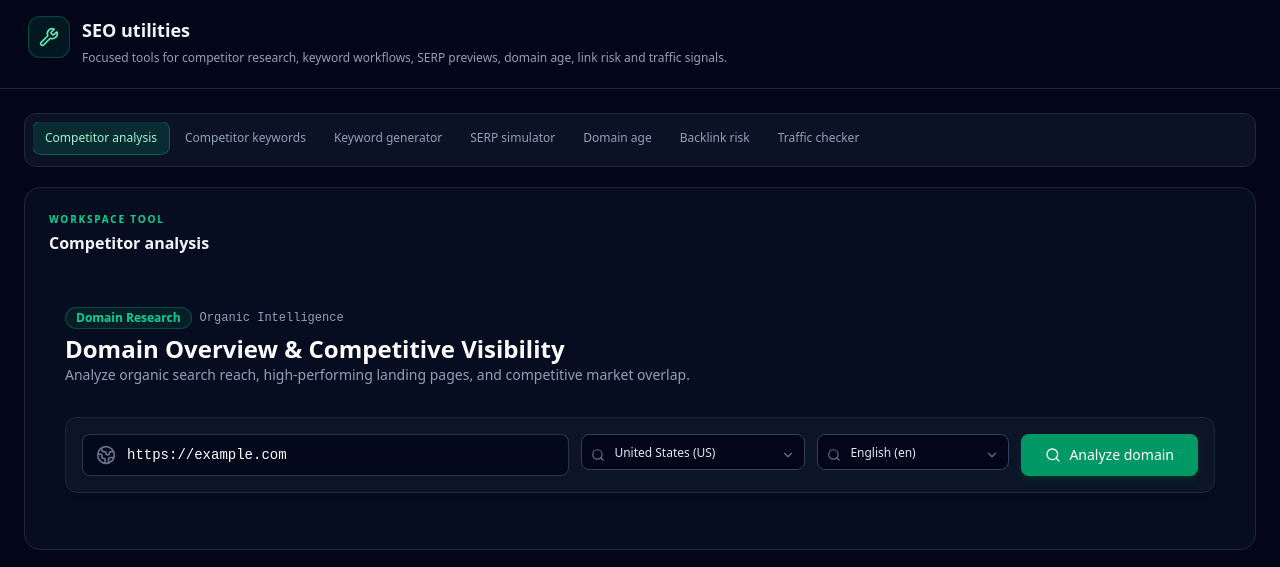
it: SEO utilities workspace route › surfaces a timed-out registry request as a controlled error
Click the tab "Domain age". click: click(617, 138)
box: [571,122,664,154]
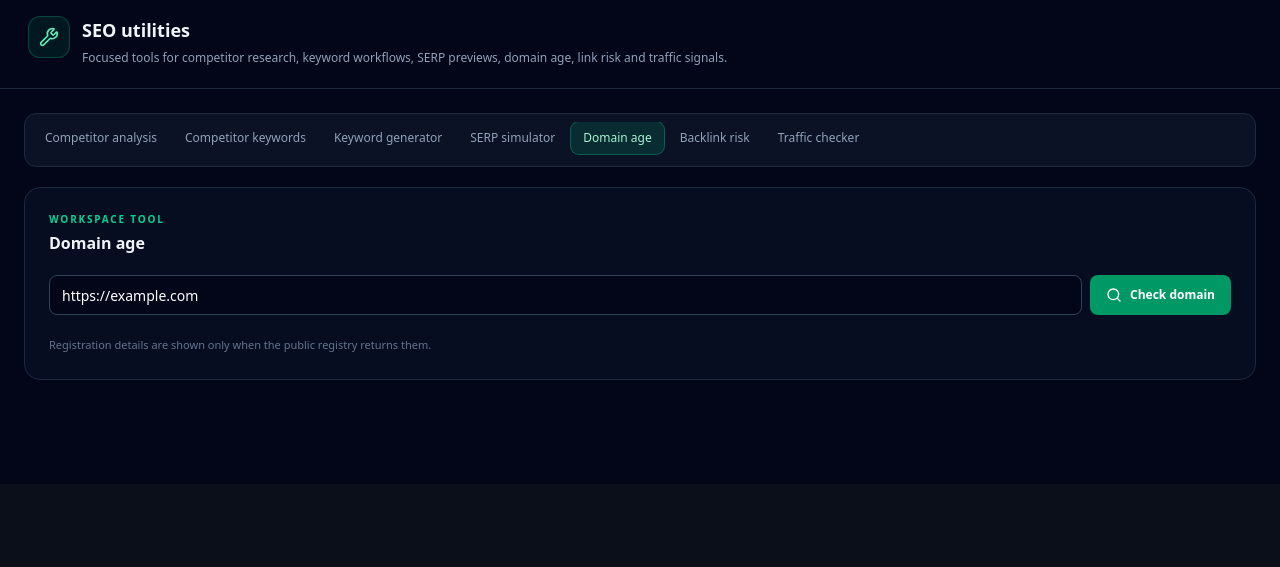
Click the button "Check domain". click: click(1160, 295)
box: [1090,275,1231,315]
Wait 10000 ms
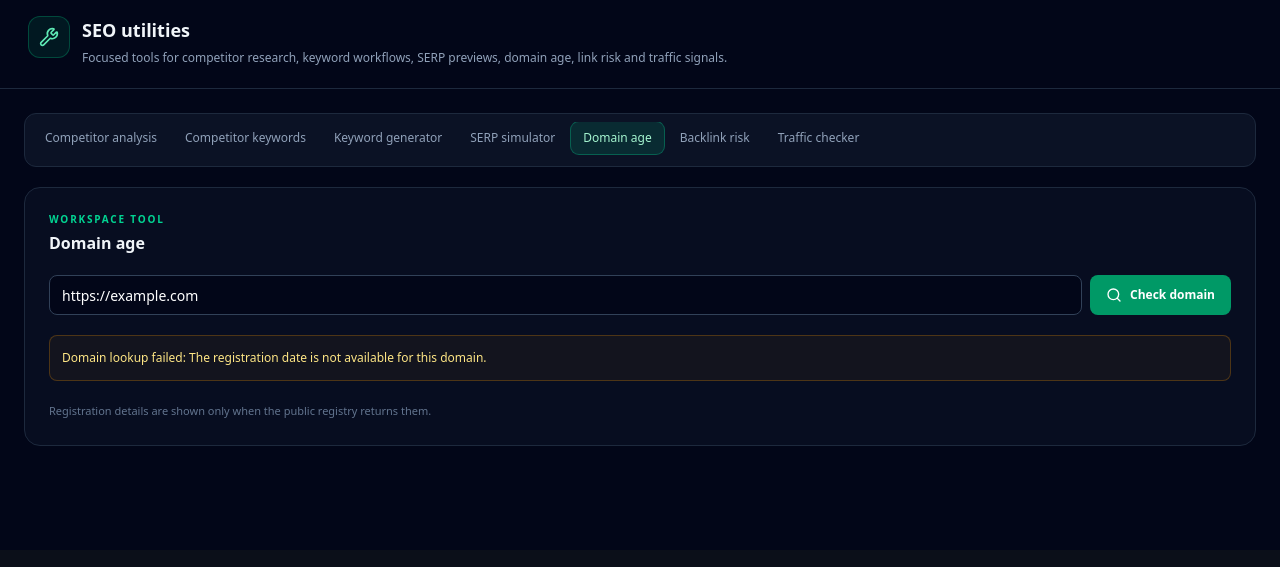
Now the message "Domain lookup failed: The registration date is not available for this domain." is shown, box [49,335,1231,381]
